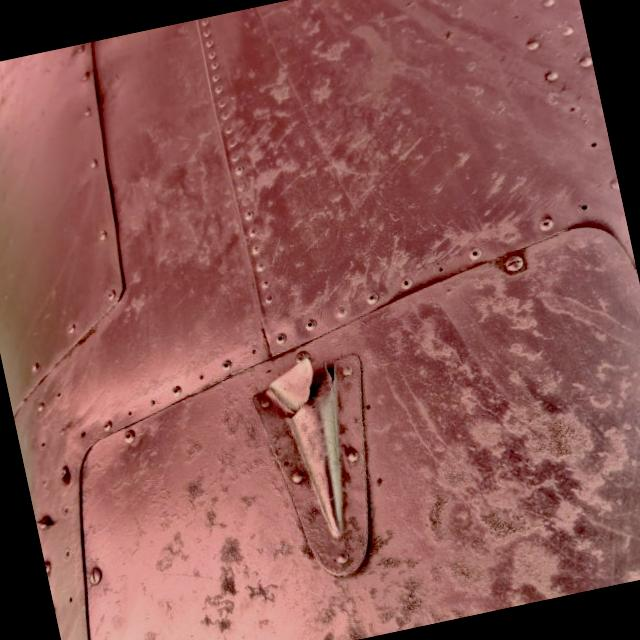crack: (239, 336, 360, 456)
